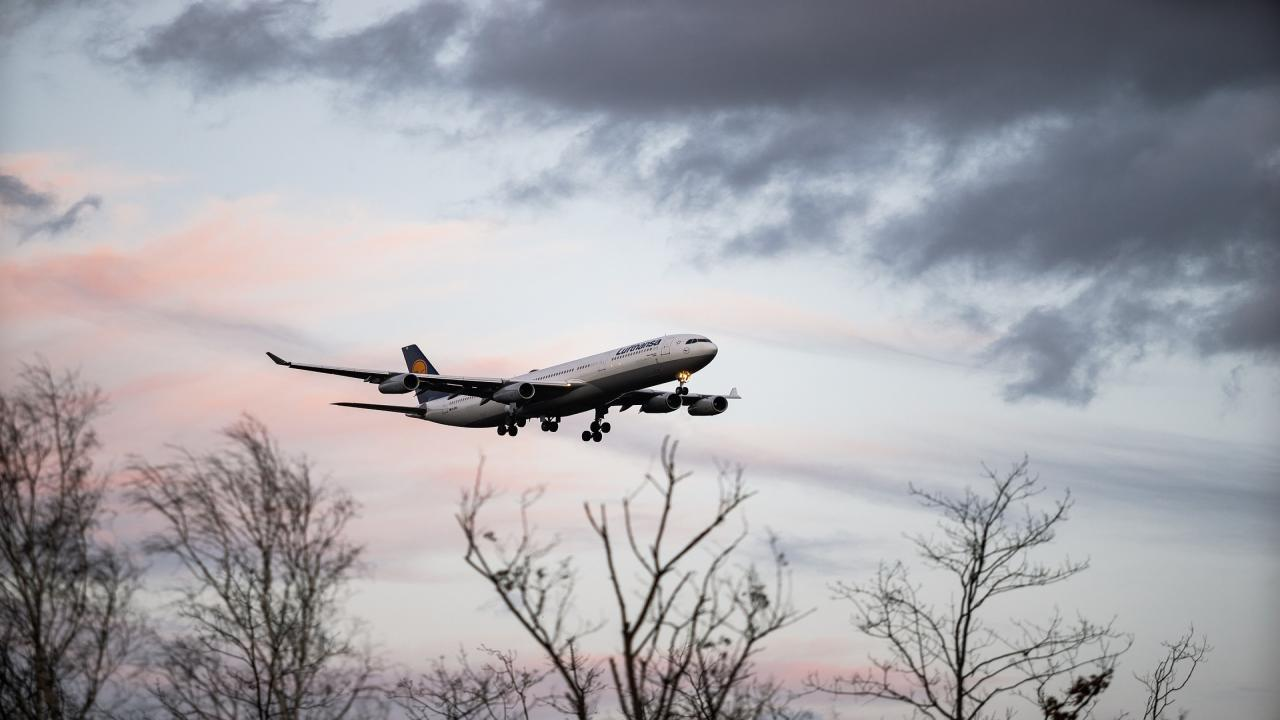Airplane: (256, 323, 758, 453)
